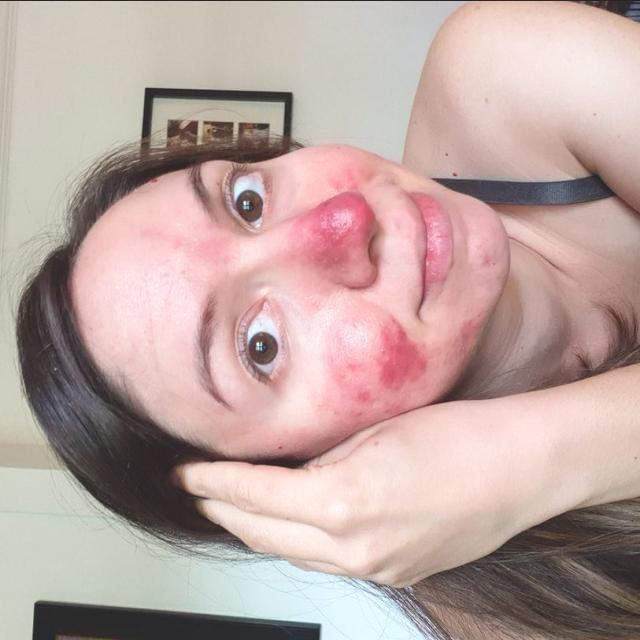Rosacea: (329, 302, 477, 406), (294, 187, 372, 280), (318, 146, 375, 193)
